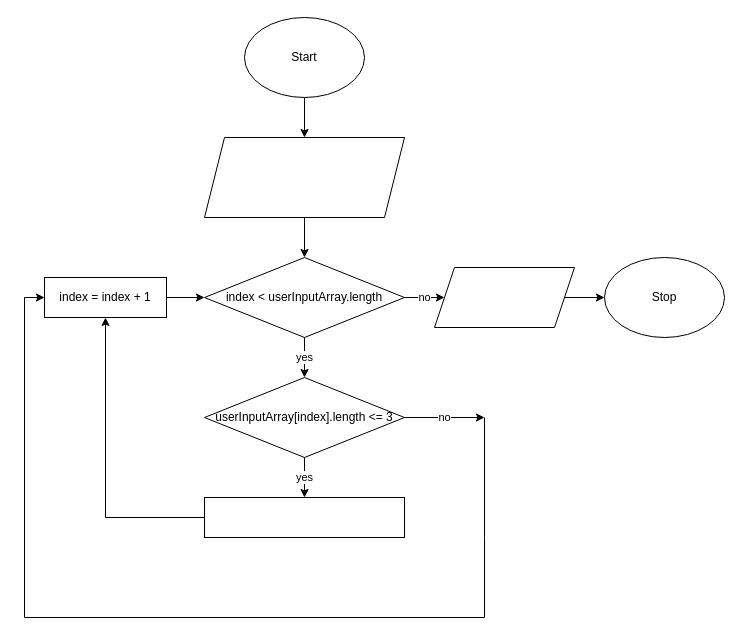
Image size: 742x643. Some labels were removed from this diagram. The centre of each missing label's shape, as x and y in pixels:
newArray[index] = userInputArray[index]: the point at 304,517
print(newArray): the point at 504,297
userInputArray = [ ] newArray = [ ] index = 0: the point at 304,177
